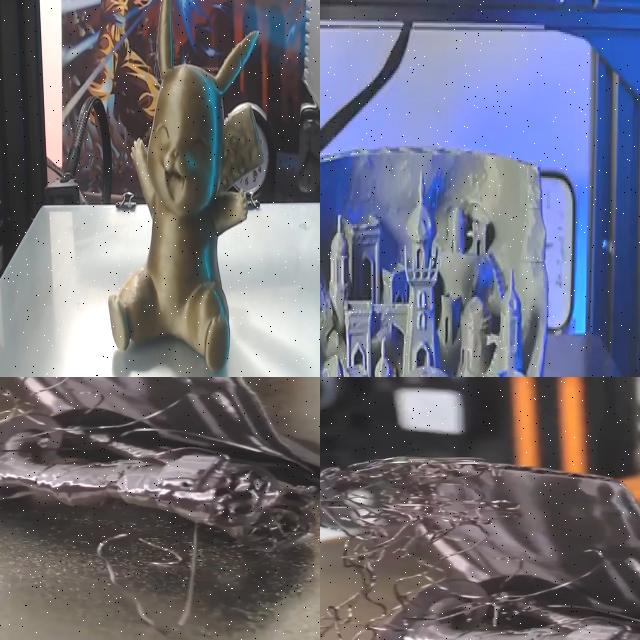spaghetti: (0, 377, 254, 640), (320, 444, 628, 640)
